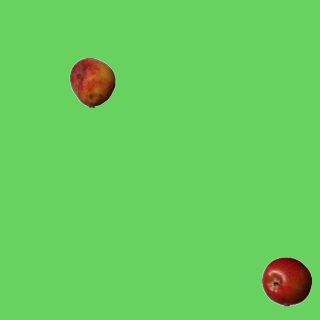Apple Braeburn: (261, 256, 311, 306)
Peach: (67, 57, 117, 107)
